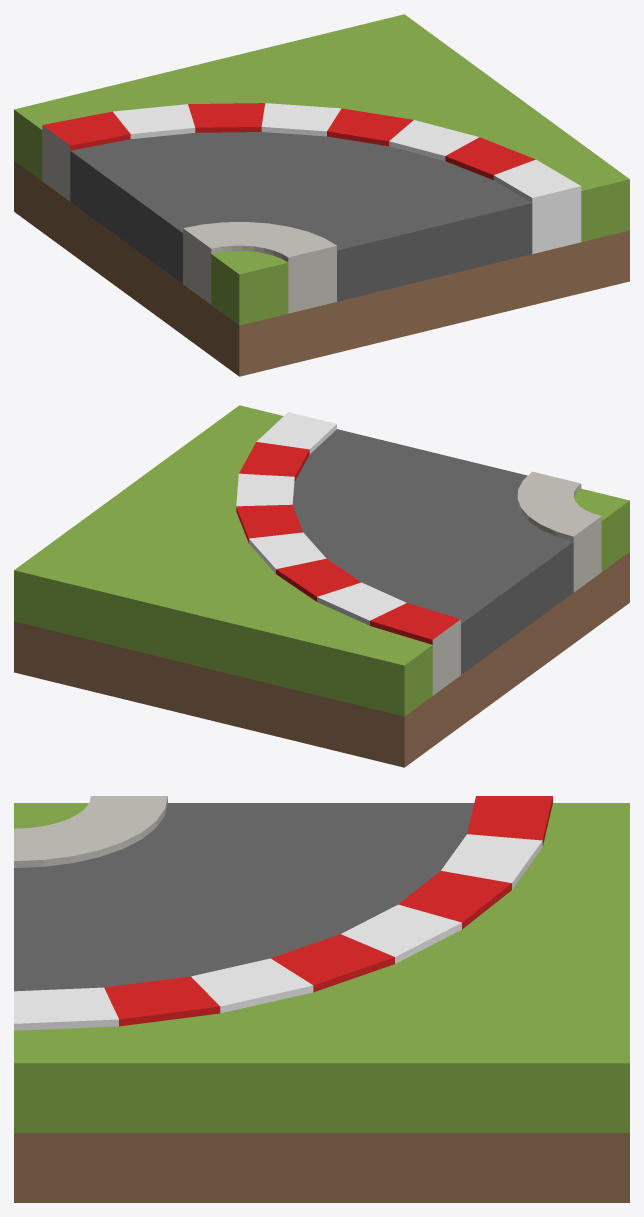
File: track-corner-small.obj
3 renders of one model, top to bottom at view 1: azimuth 30°, elevation 25°; view 2: azimuth 150°, elevation 25°; view 3: azimuth 270°, elevation 25°, orthographic. The views are drawn at different scales.
Visible parts, largest first — view 1: track-corner-small_Cube.639; view 2: track-corner-small_Cube.639; view 3: track-corner-small_Cube.639.
Boxes of the visible parts, bbox=[...] form: track-corner-small_Cube.639: bbox=[14, 14, 629, 376]; track-corner-small_Cube.639: bbox=[14, 405, 629, 767]; track-corner-small_Cube.639: bbox=[14, 796, 629, 1202].
Bounding box in the file's own units: 8 × 2.1 × 8.
Materials: 1 (1 with a texture image).
